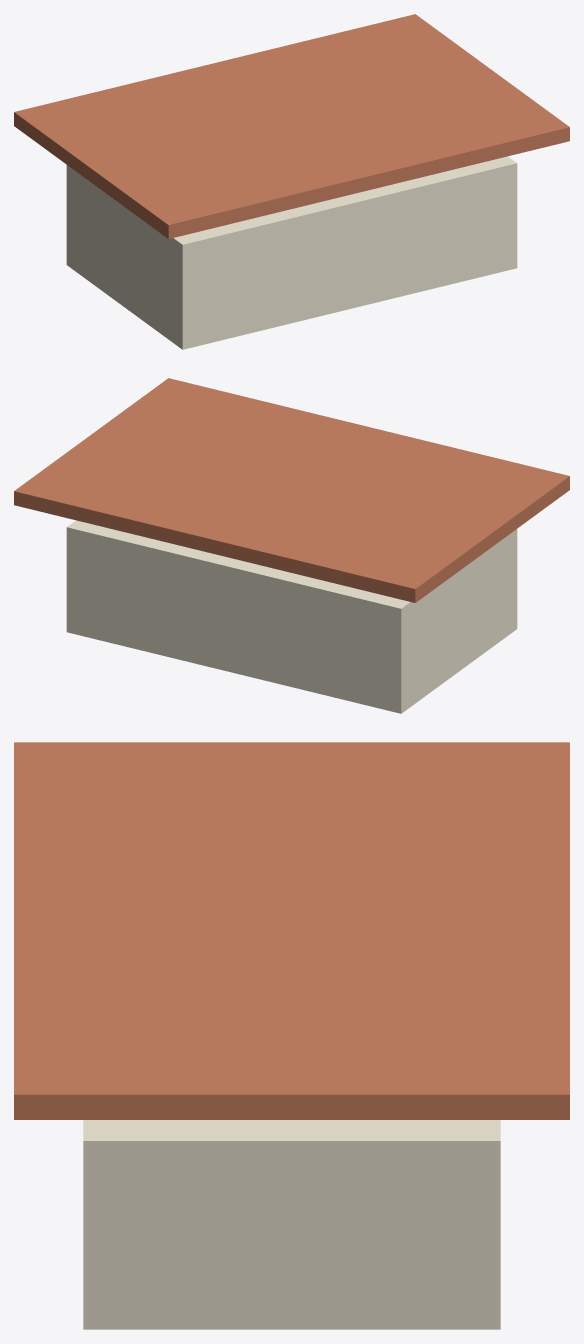
The model's file is service-canopy.glb.
3 views of the same model, one above another, from view 1: azimuth 30°, elevation 25°; view 2: azimuth 150°, elevation 25°; view 3: azimuth 270°, elevation 25° (orthographic). The views are drawn at different scales.
Size of the model in its own units: 12 by 4.2 by 8.
